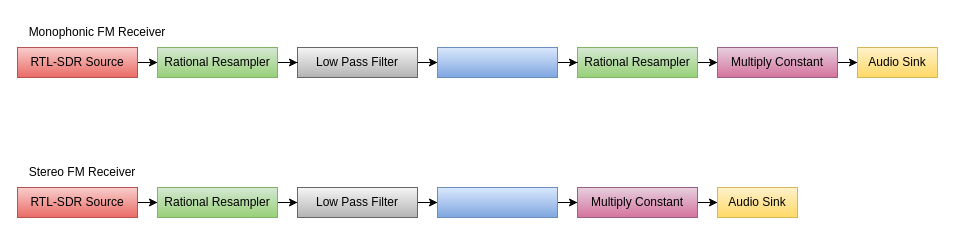
This 955x235 diagram has some shape labels left out. Each missing label, with the centre of its shape:
"WBFM Receive" belongs at (497,62).
"WBFM Receive PLL" belongs at (497,202).
